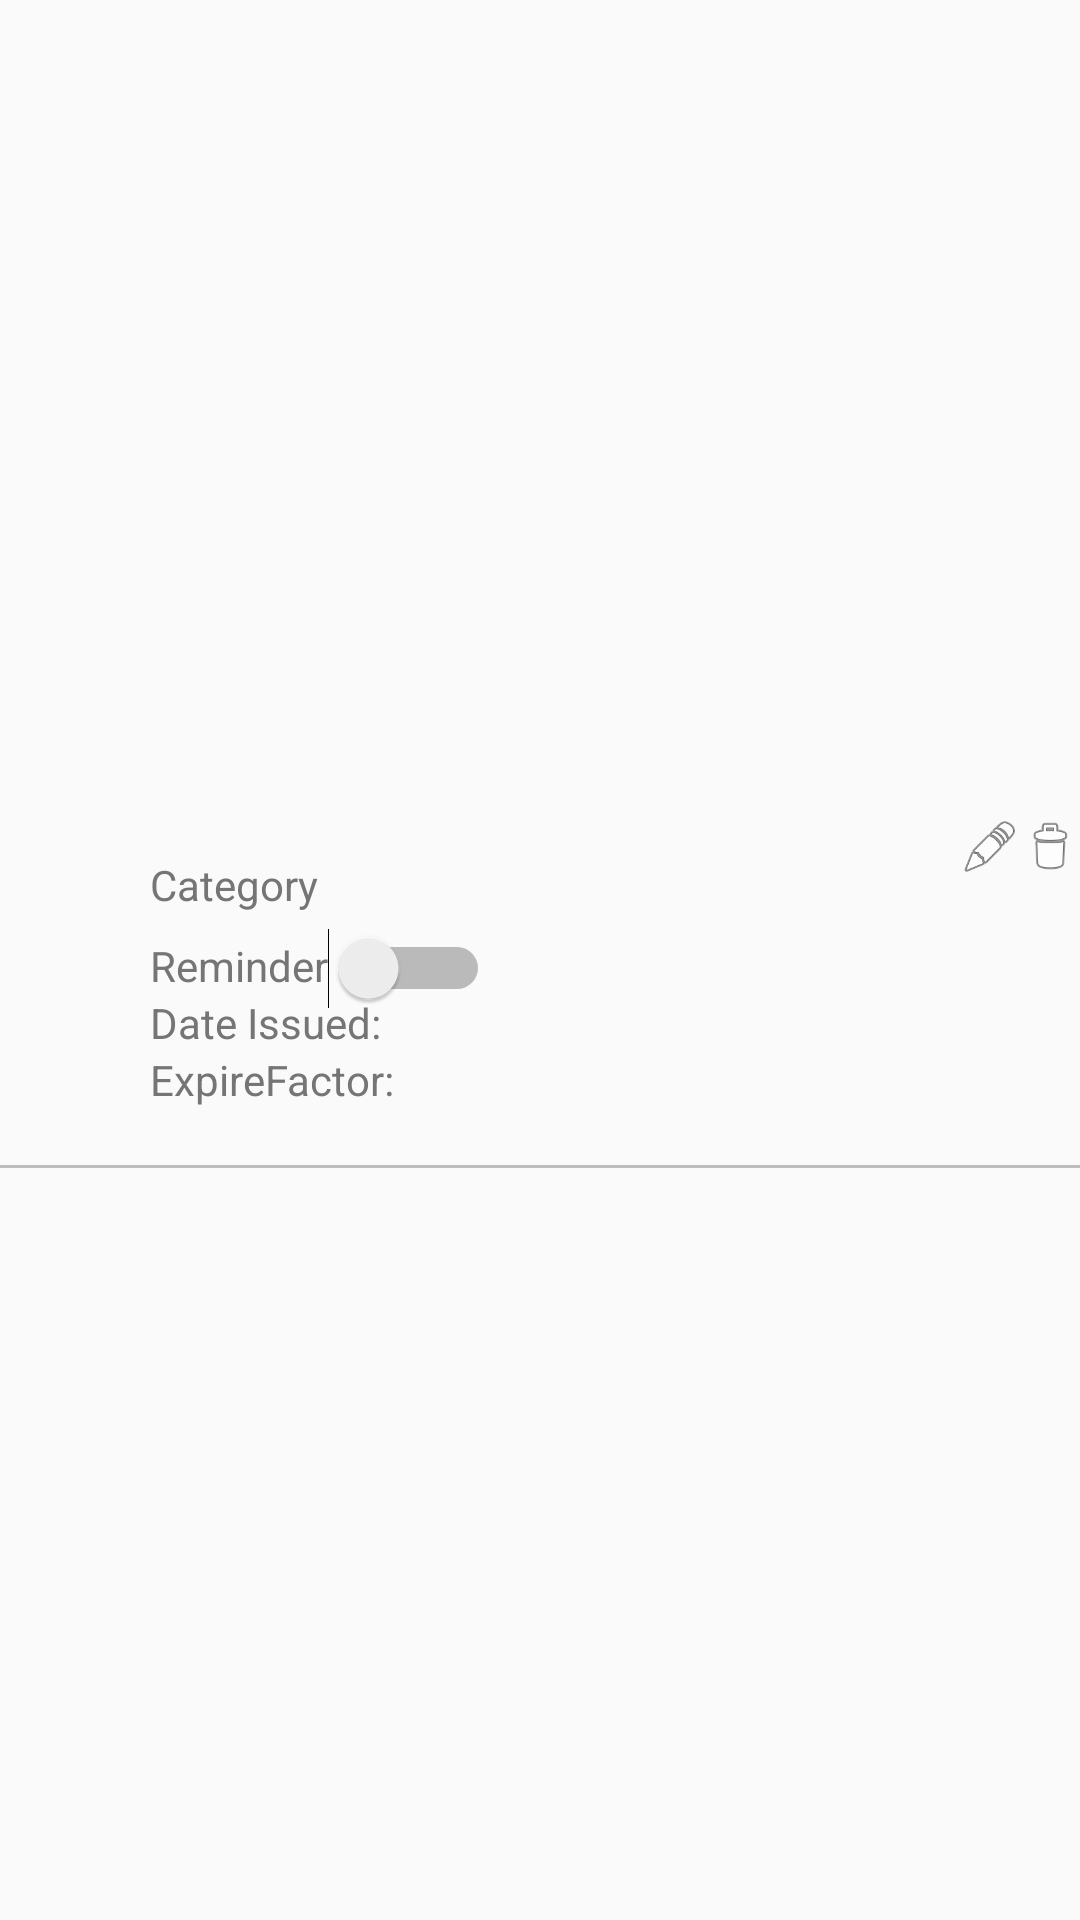

Screen size 1080 x 1920. Icon name, then its box in pixels as (x1=x1, y1=y1, x2=x2, y2=y2):
delete: (x1=1033, y1=823, x2=1067, y2=870)
edit: (x1=964, y1=821, x2=1015, y2=872)
